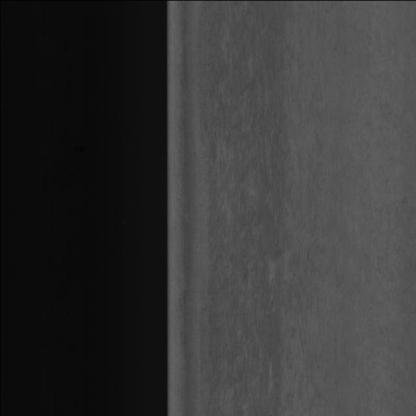silk_spot: (200, 95, 284, 265)
